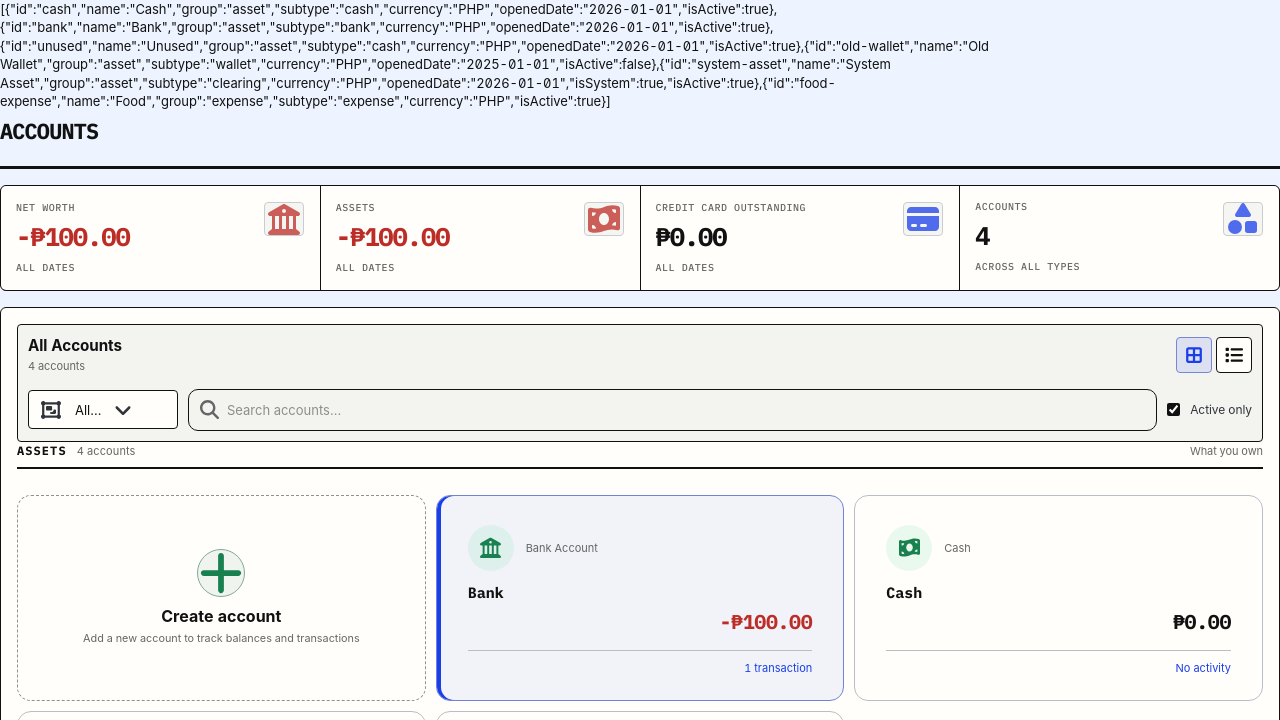
Test case: account management interactions › dismisses account dialogs with Escape or a backdrop click
The image size is (1280, 720).
Click the button "Create account" at (221, 598), box [17,494,426,701]
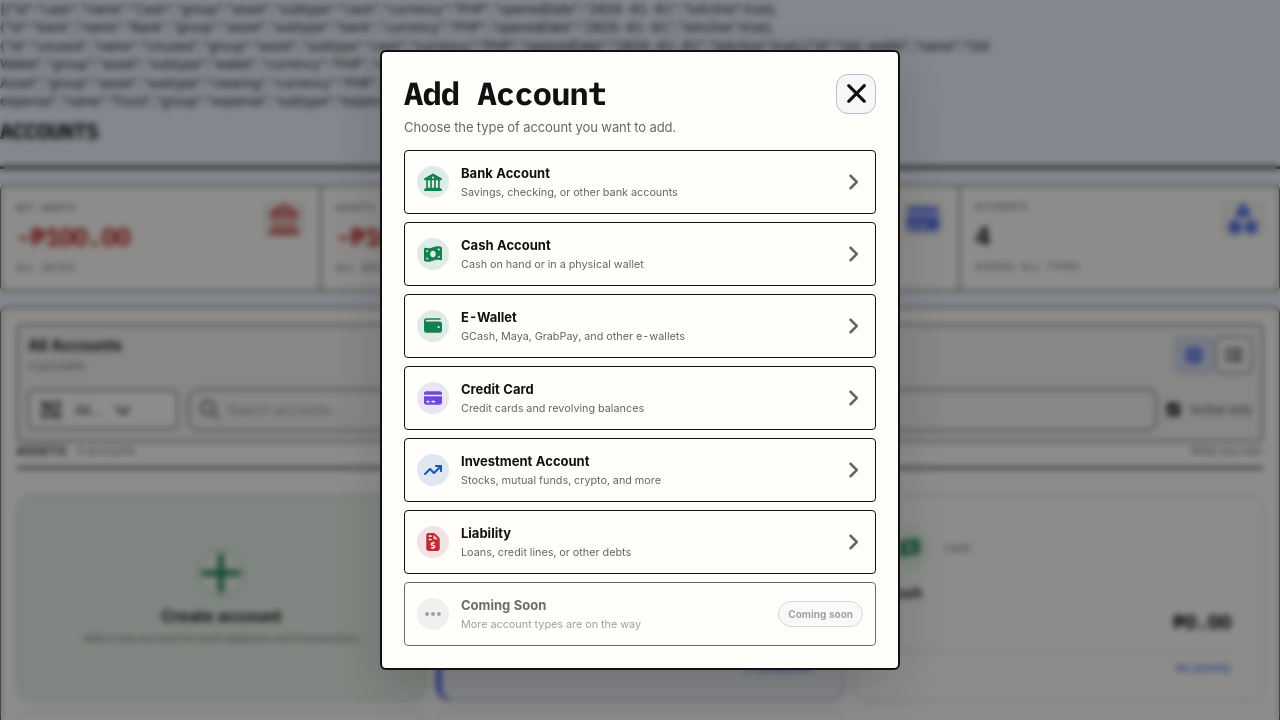
Press Escape
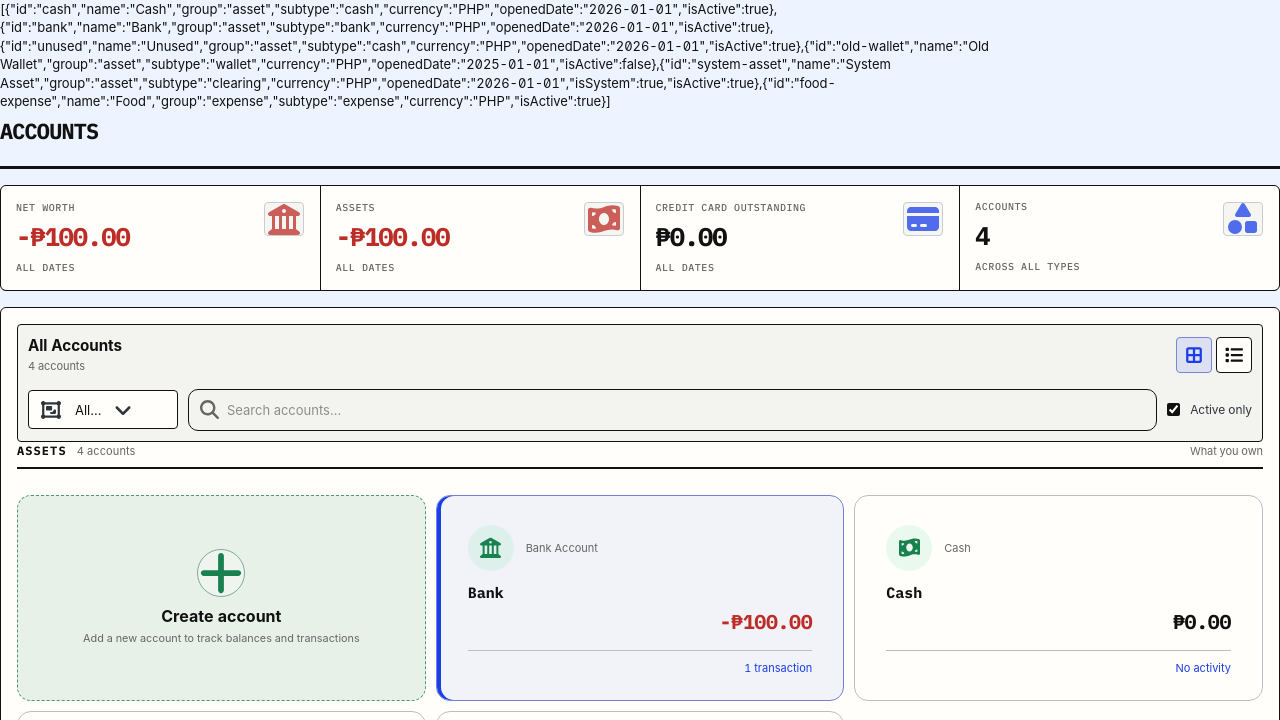
Now the dialog is gone
Click the button "Create account" at (221, 598), box [17,494,426,701]
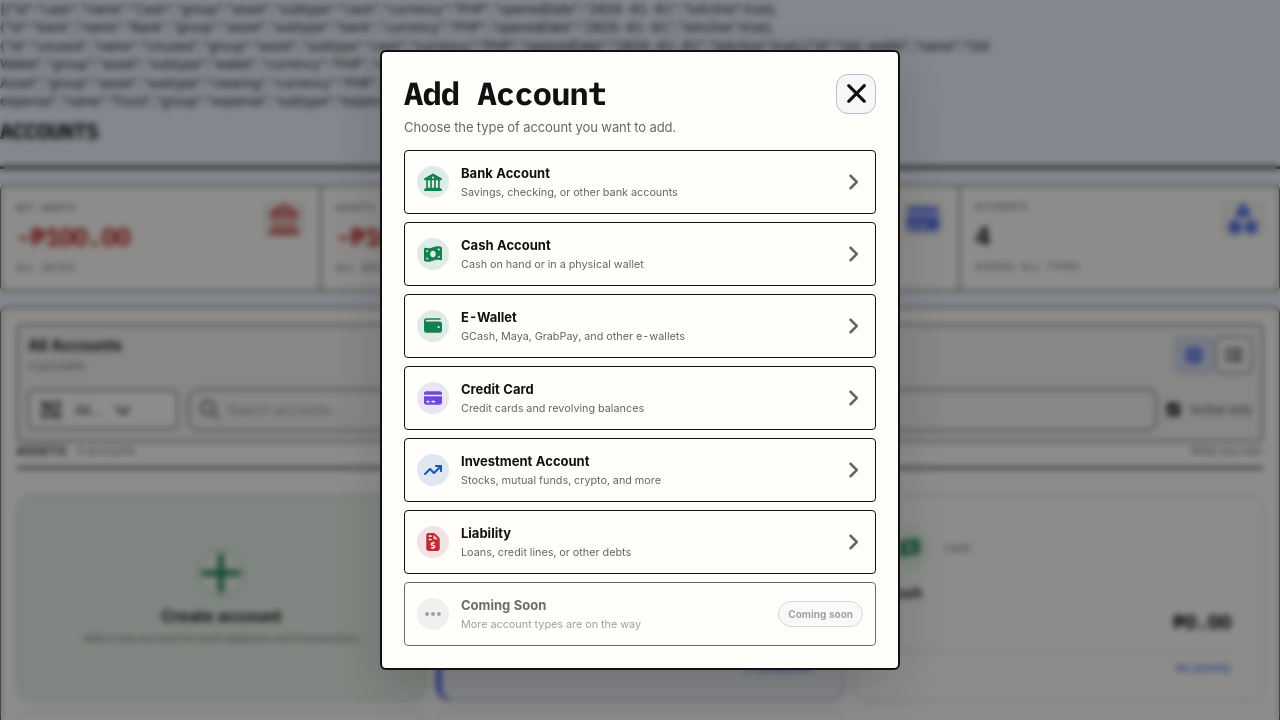
Click the element with class "modal-backdrop" at (77, 360), box [0,0,1279,719]
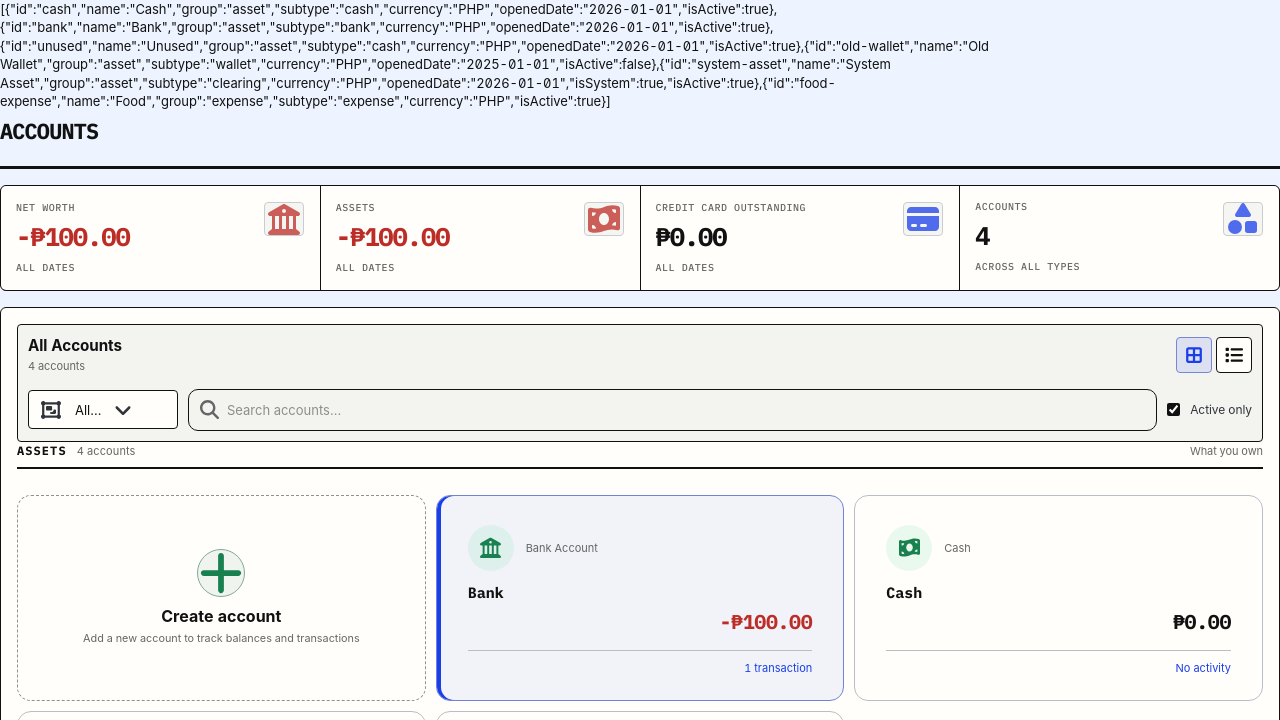
Now the dialog is gone
